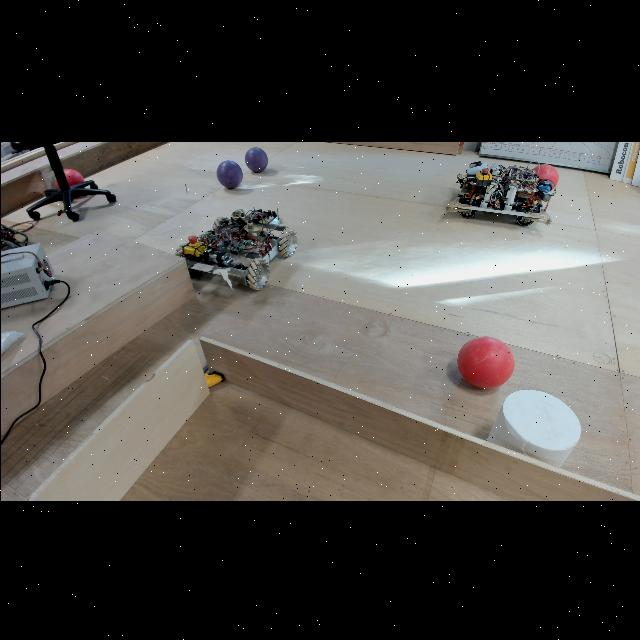P: (216, 158, 242, 188), (244, 145, 266, 171)
R: (456, 334, 514, 388), (54, 167, 84, 196), (530, 162, 558, 190)
